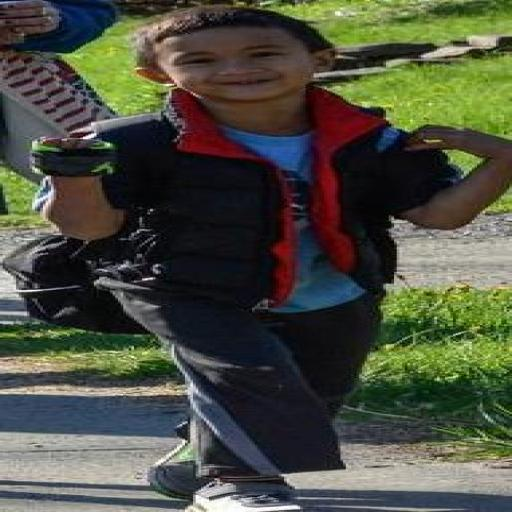person: (35, 6, 511, 511), (0, 0, 117, 181)
